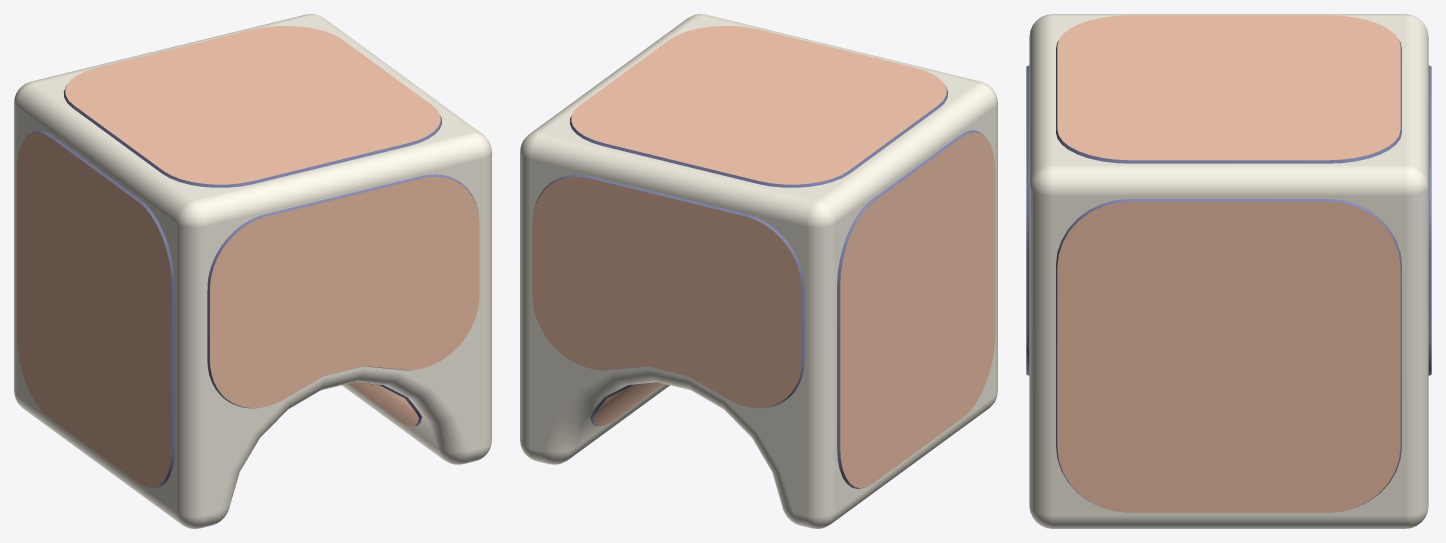
The model's file is R4B_Arch.fbx.
3 renders of one model, left to right at view 1: azimuth 30°, elevation 25°; view 2: azimuth 150°, elevation 25°; view 3: azimuth 270°, elevation 25°, orthographic. The views are drawn at different scales.
Visible parts, largest first — view 1: R4B_Arch; view 2: R4B_Arch; view 3: R4B_Arch.
Boxes of the visible parts, x1,y1,x2,y2 form: R4B_Arch: (14,14,491,528); R4B_Arch: (520,14,997,528); R4B_Arch: (1026,14,1431,528).
Bounding box in the file's own units: 0.52 × 0.516 × 0.52.
